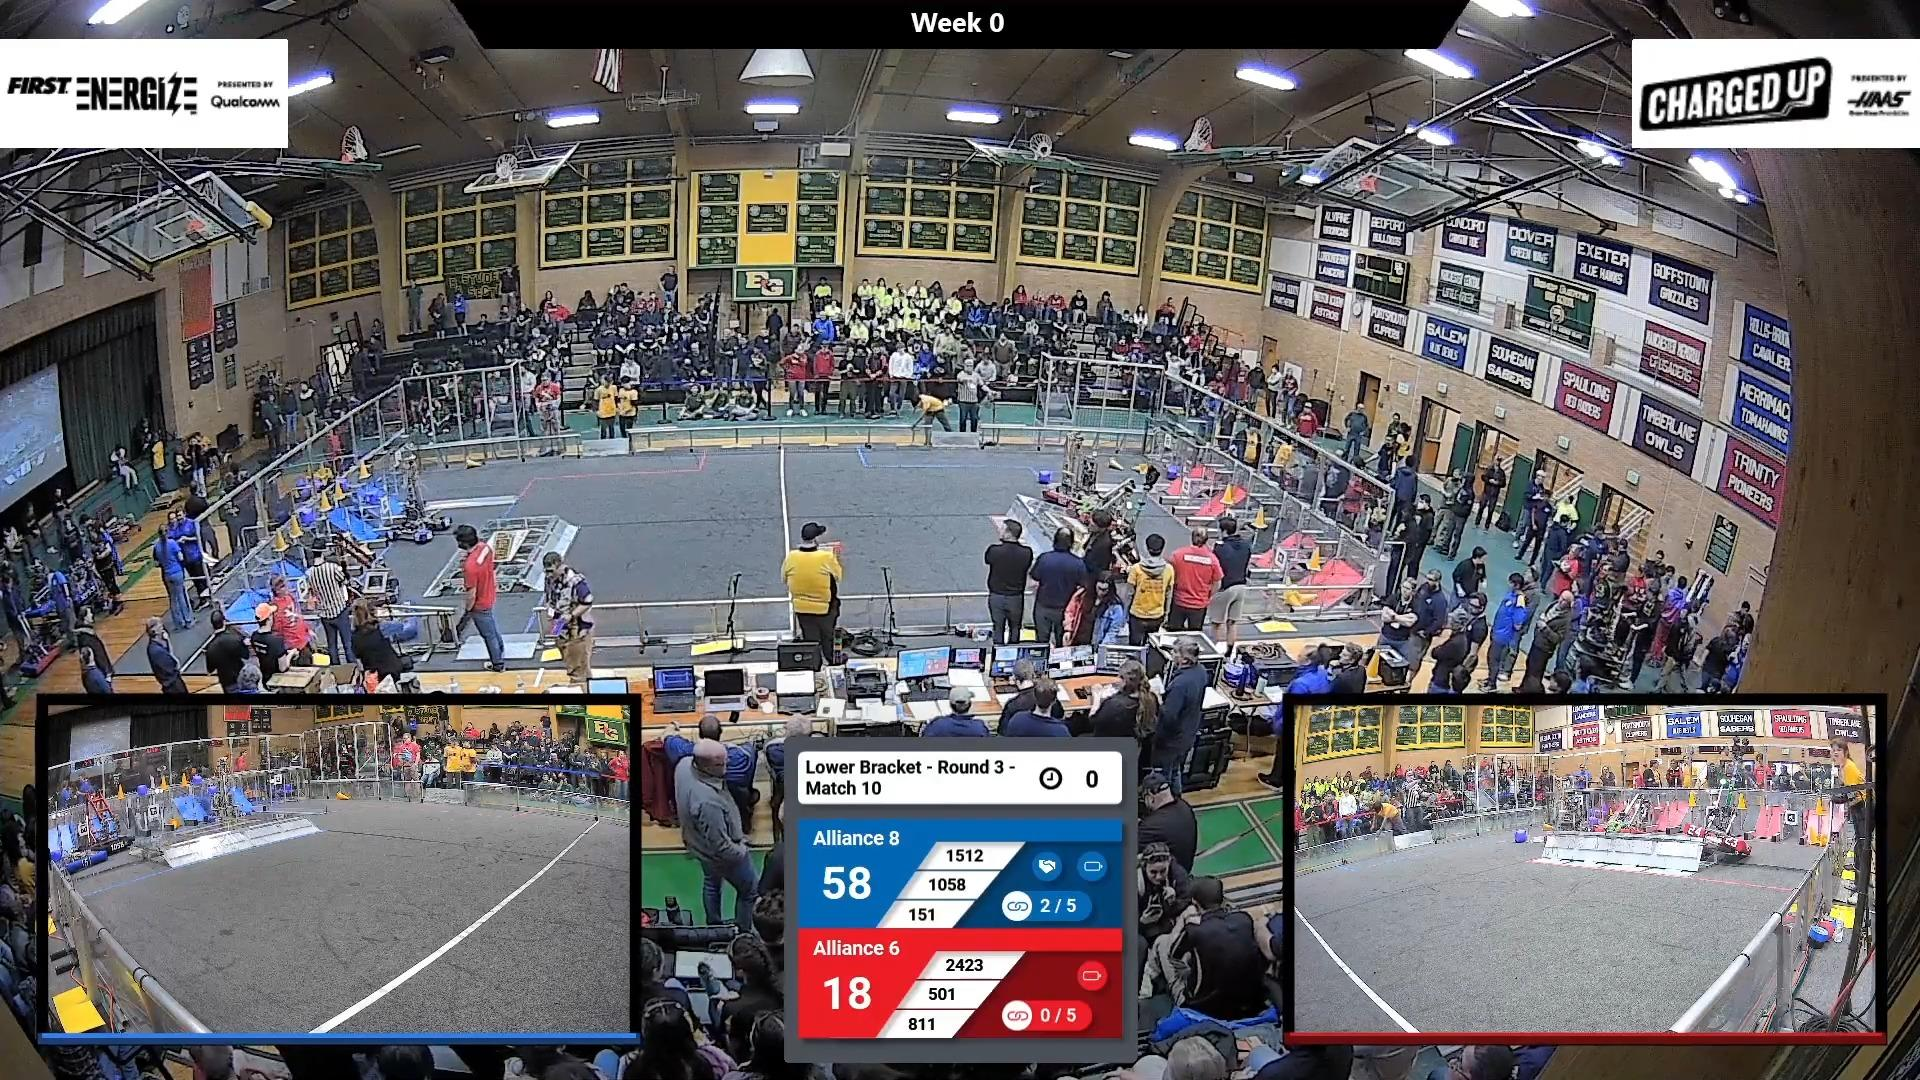robot: (319, 527, 405, 608), (381, 469, 456, 550), (1035, 435, 1110, 512), (348, 578, 422, 649), (1065, 479, 1151, 537), (1096, 530, 1166, 579)
